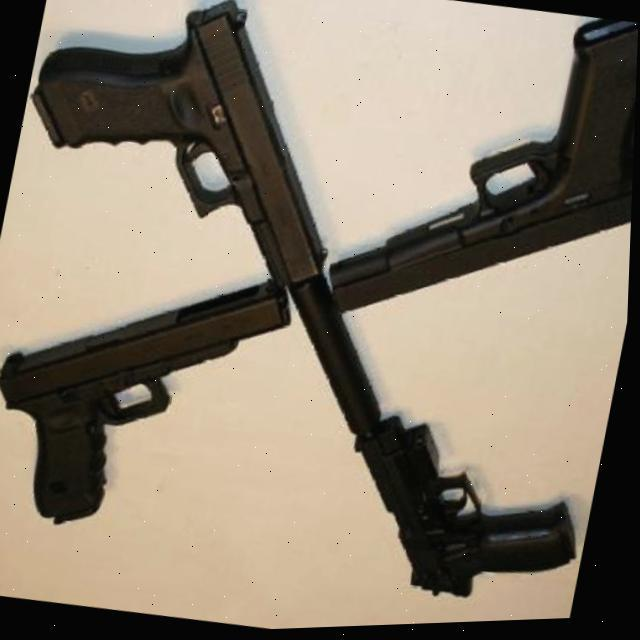gun: (323, 0, 640, 364), (1, 0, 370, 307), (0, 242, 300, 560), (324, 396, 608, 624)
